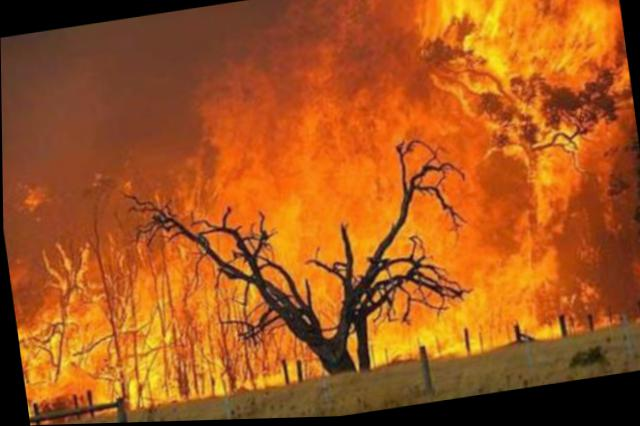fire: (0, 0, 639, 420)
